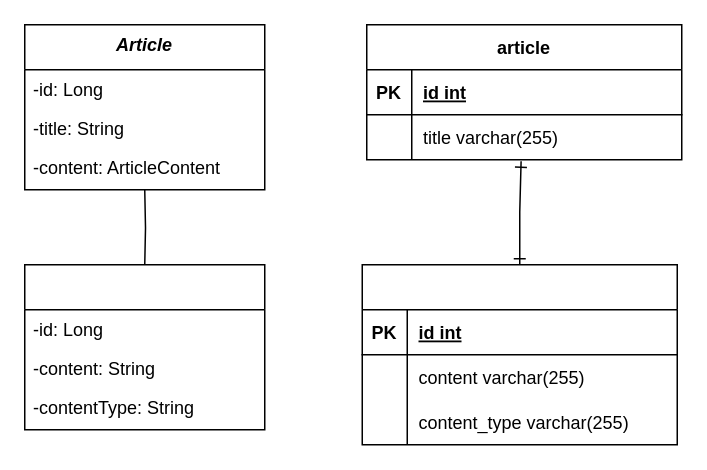
Image size: 707x470. Some labels were removed from this diagram. The shapes that lost their labels are listed below. From the top down, each one's box as (x1, y1, x2, y2) in pixels, then its label:
(23, 263, 265, 430): ArticleContent
(361, 263, 677, 445): article_content
